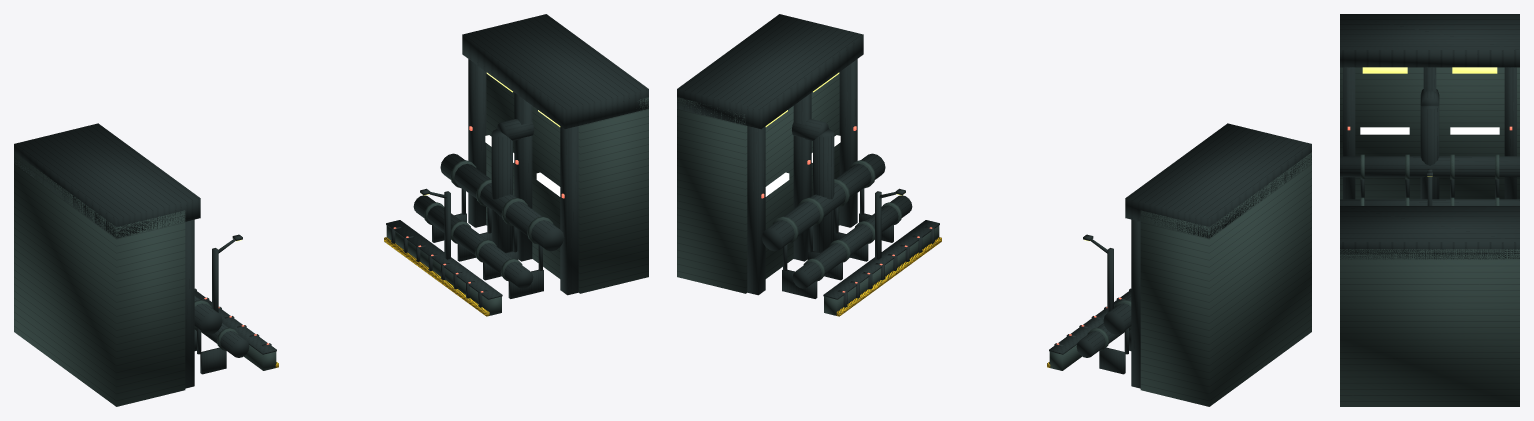
The model's file is night-drive-reactor.glb.
3 views of the same model, side by side, from view 1: azimuth 30°, elevation 25°; view 2: azimuth 150°, elevation 25°; view 3: azimuth 270°, elevation 25° (orthographic). The views are drawn at different scales.
Visible parts, largest first — view 1: night-drive-reactor; view 2: night-drive-reactor; view 3: night-drive-reactor.
Part boxes in pixels (bbox=[...]): night-drive-reactor: bbox=[14, 14, 648, 406]; night-drive-reactor: bbox=[677, 14, 1311, 406]; night-drive-reactor: bbox=[1340, 14, 1519, 406].
Bounding box in the file's own units: 48 × 16.2 × 16.
1 material, 1 textured.
